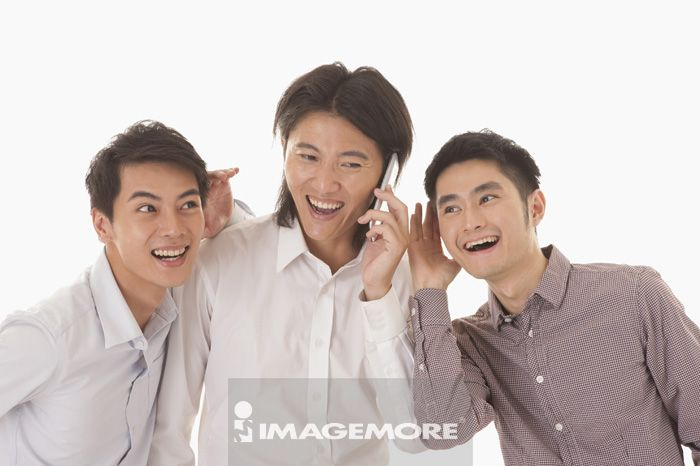phone: (366, 152, 400, 243)
talk: (287, 138, 409, 289)
